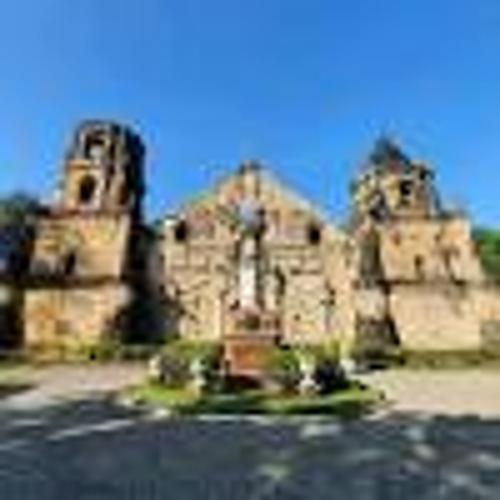Miagao Church: (34, 116, 500, 362)
